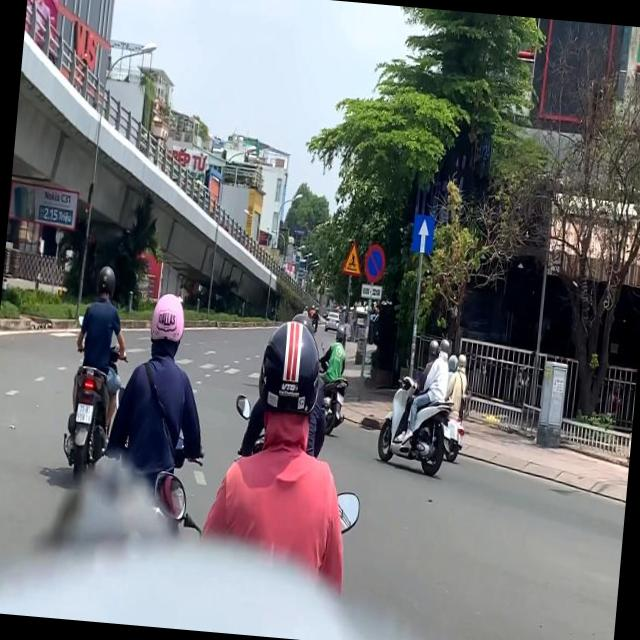I-407a: (414, 217, 434, 251)
P-131a: (362, 242, 388, 282)
